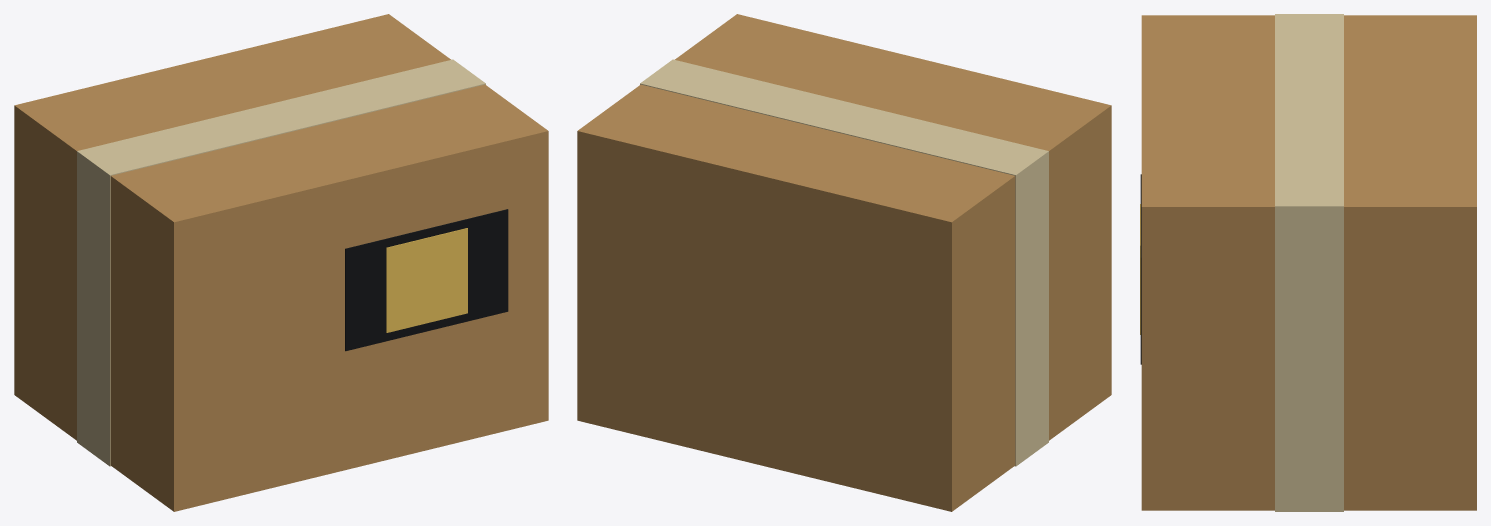
Rendered from merch.glb.
3 views of the same model, side by side, from view 1: azimuth 30°, elevation 25°; view 2: azimuth 150°, elevation 25°; view 3: azimuth 270°, elevation 25° (orthographic). The views are drawn at different scales.
Parts seen in each view (by area): view 1: Merch; view 2: Merch; view 3: Merch.
Boxes of the visible parts, left/top/right/bottom form: Merch: left=14, top=14, right=548, bottom=511; Merch: left=577, top=14, right=1111, bottom=511; Merch: left=1140, top=14, right=1476, bottom=511.
Size of the model in its own units: 0.462 by 0.342 by 0.3418.
